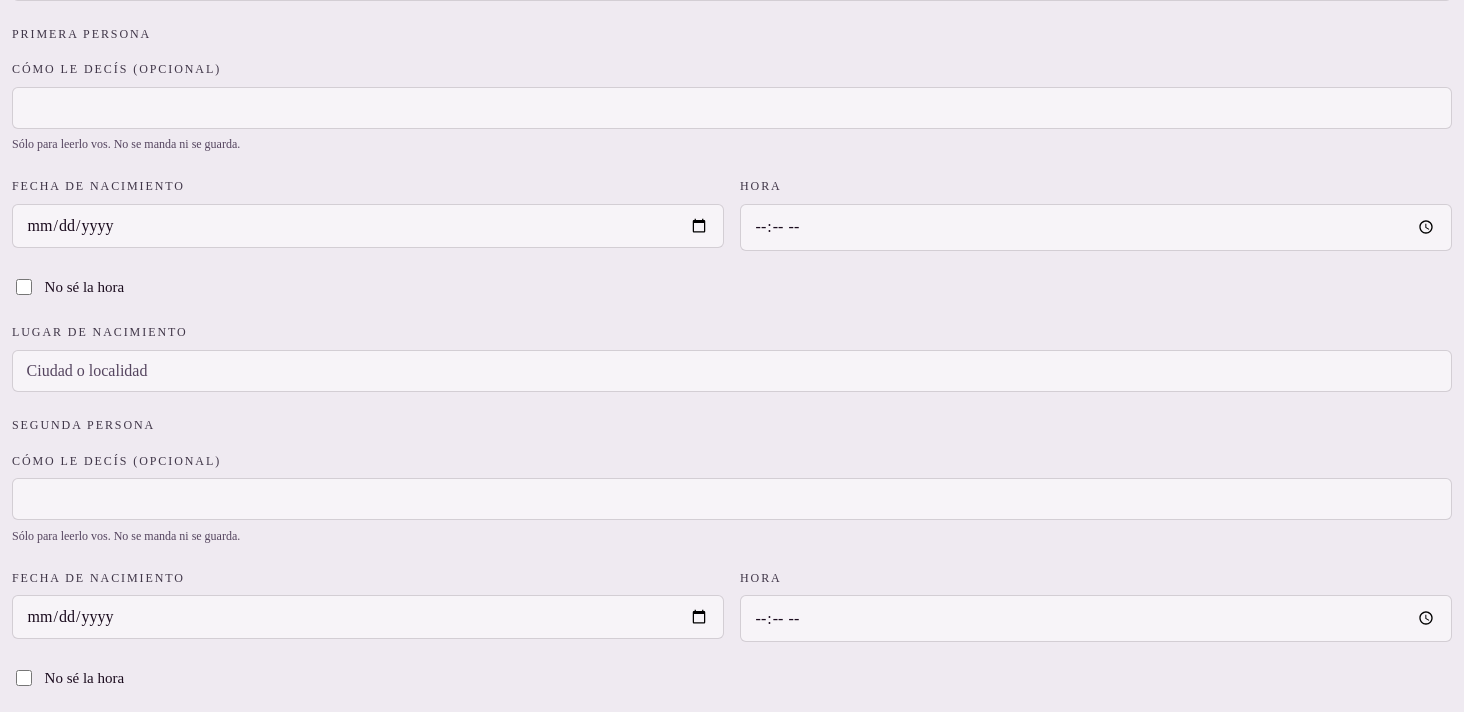
Test: VinculoForm › 429 muestra el mensaje de probar más tarde
This screenshot has width=1464, height=712.
Step 1. Type "1976-05-31" into the date field labelled "Fecha de nacimiento" below "Primera persona" → (368, 226), box left=12, top=204, right=724, bottom=248
Step 2. Type "rosario" into the field labelled "Lugar de nacimiento" → (732, 371), box left=12, top=350, right=1452, bottom=392
Wait 400 ms
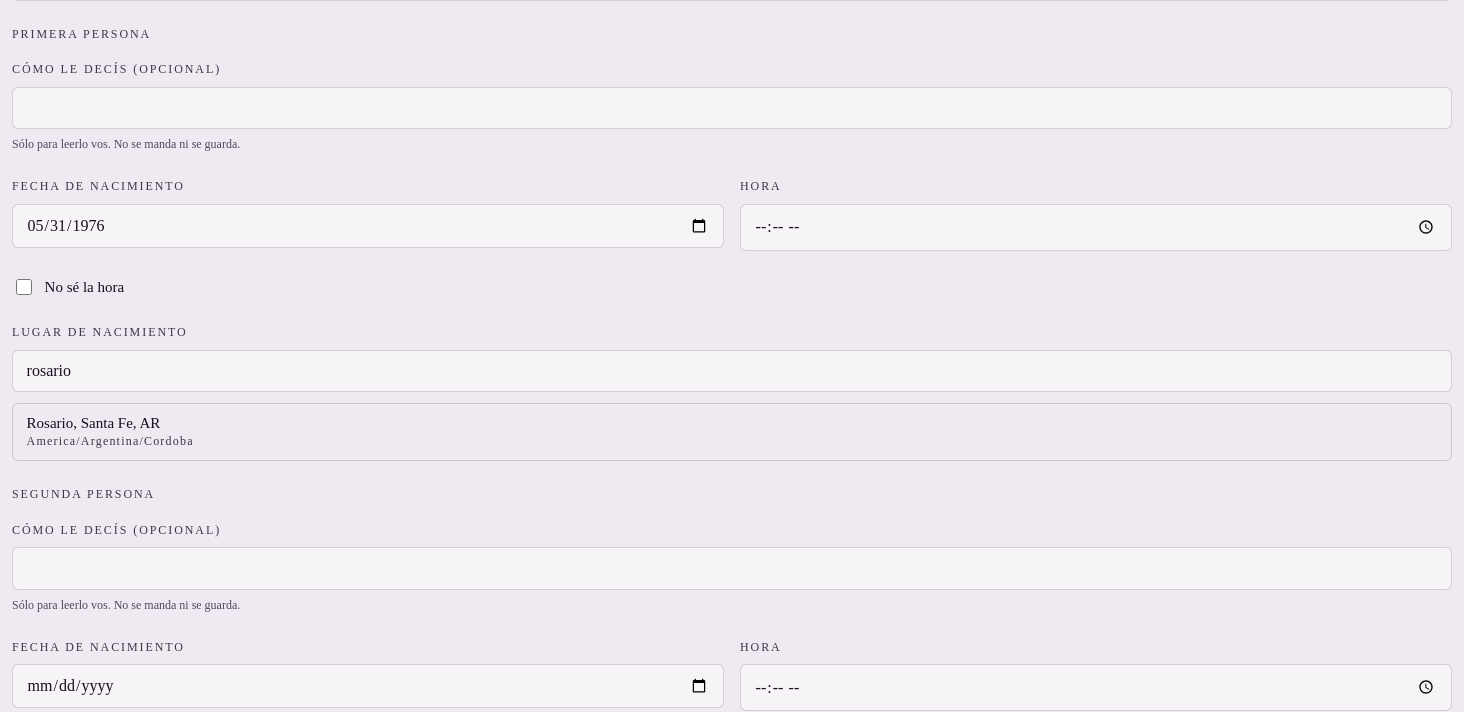
Step 3. Click the button "Rosario, Santa Fe, AR America/Argentina/Cordoba" → click(93, 423), box left=13, top=404, right=1451, bottom=460
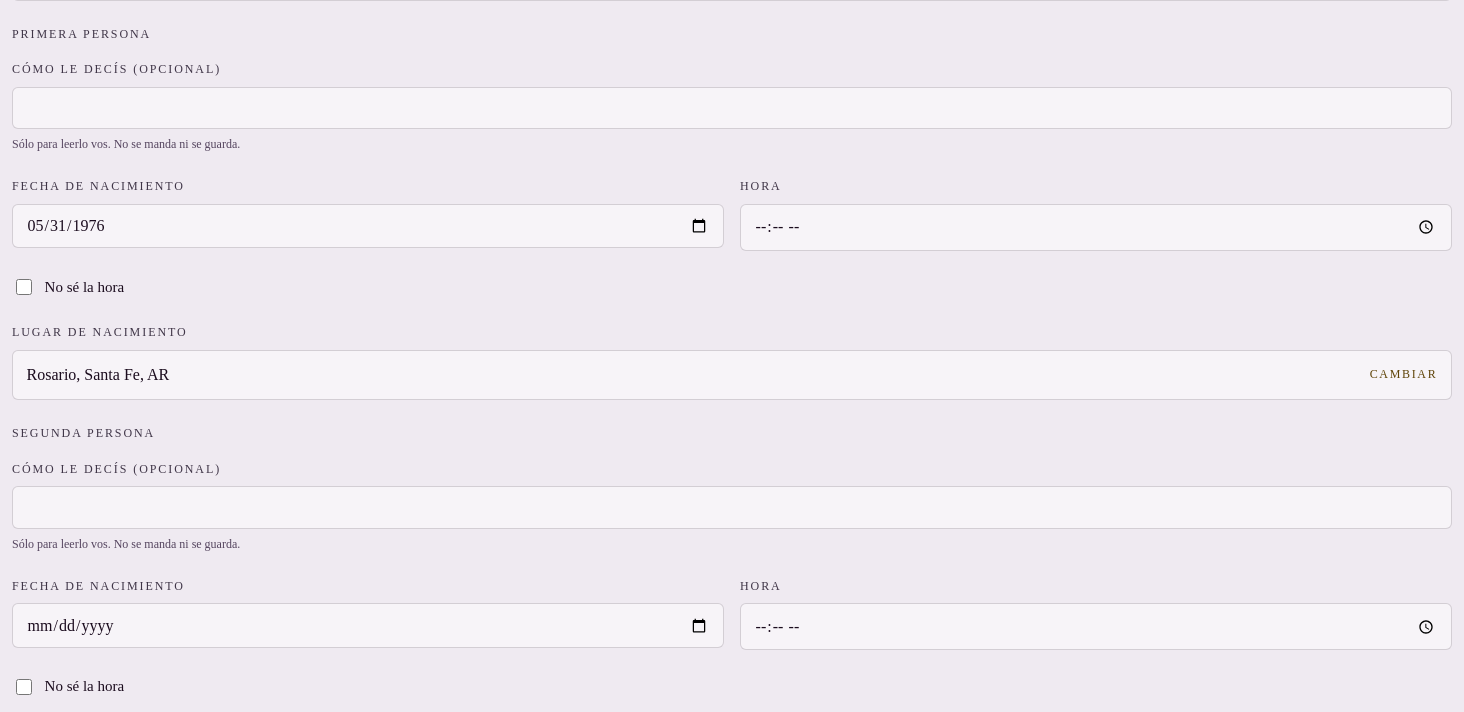
Step 4. Type "1980-11-02" into the date field labelled "Fecha de nacimiento" below "Segunda persona" → (368, 626), box left=12, top=603, right=724, bottom=648
(page scrolled)
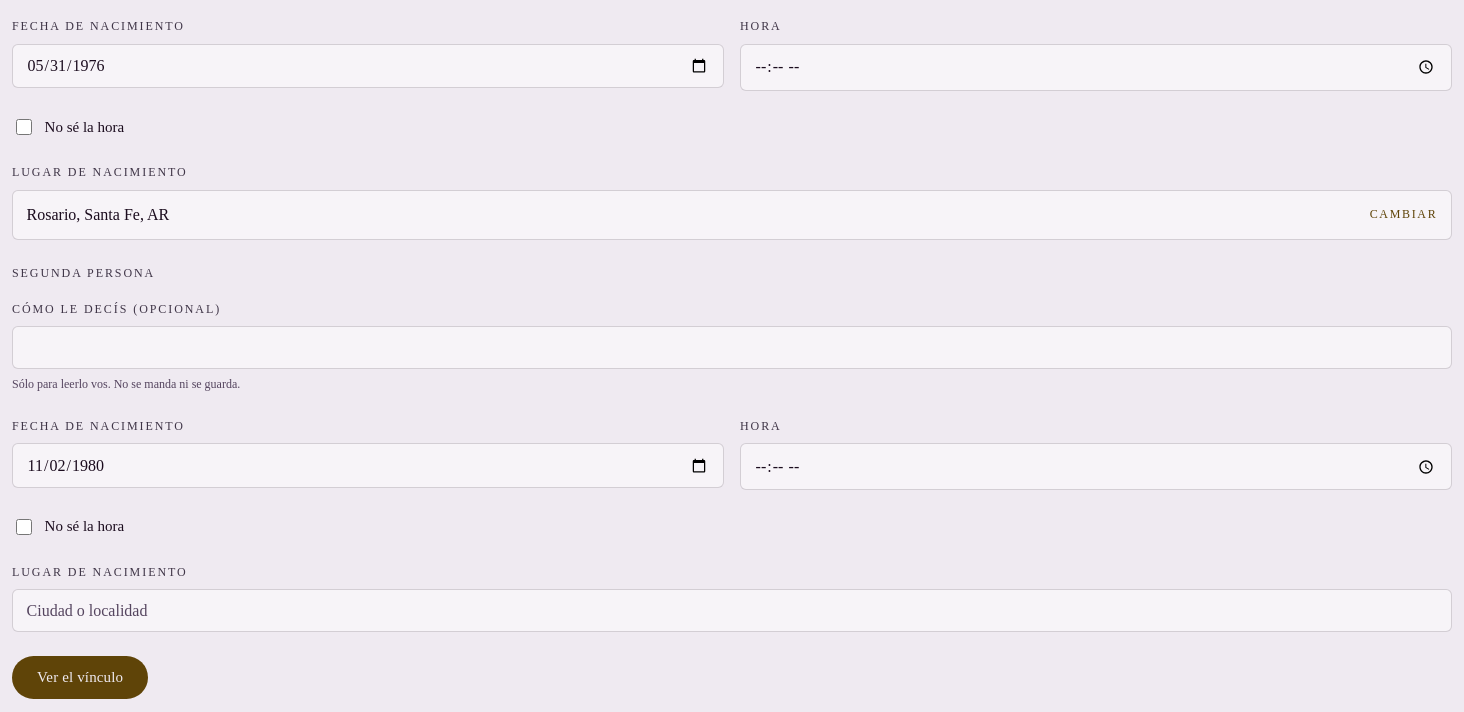
Step 5. Type "rosario" into the field labelled "Lugar de nacimiento" → (732, 611), box left=12, top=589, right=1452, bottom=632
Wait 400 ms
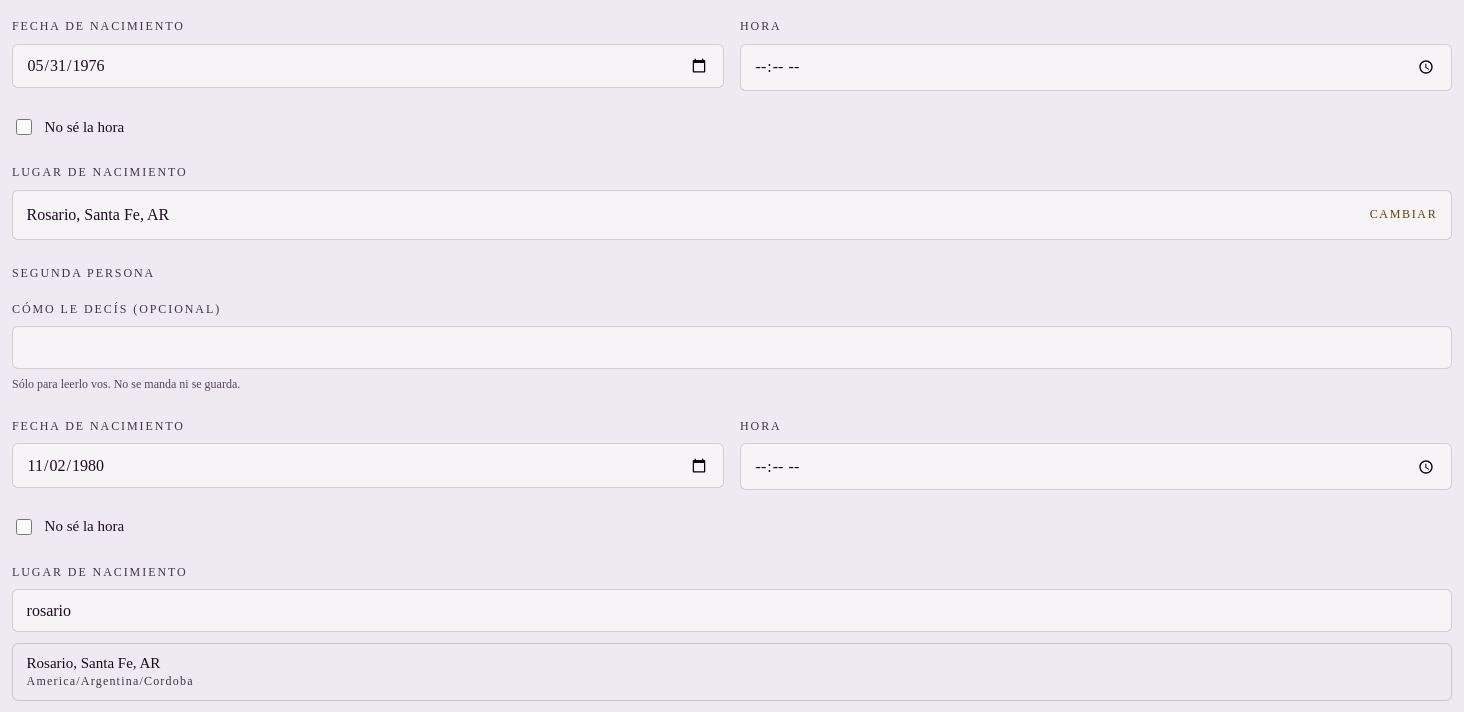
Step 6. Click the button "Rosario, Santa Fe, AR America/Argentina/Cordoba" → click(93, 663), box left=13, top=644, right=1451, bottom=700
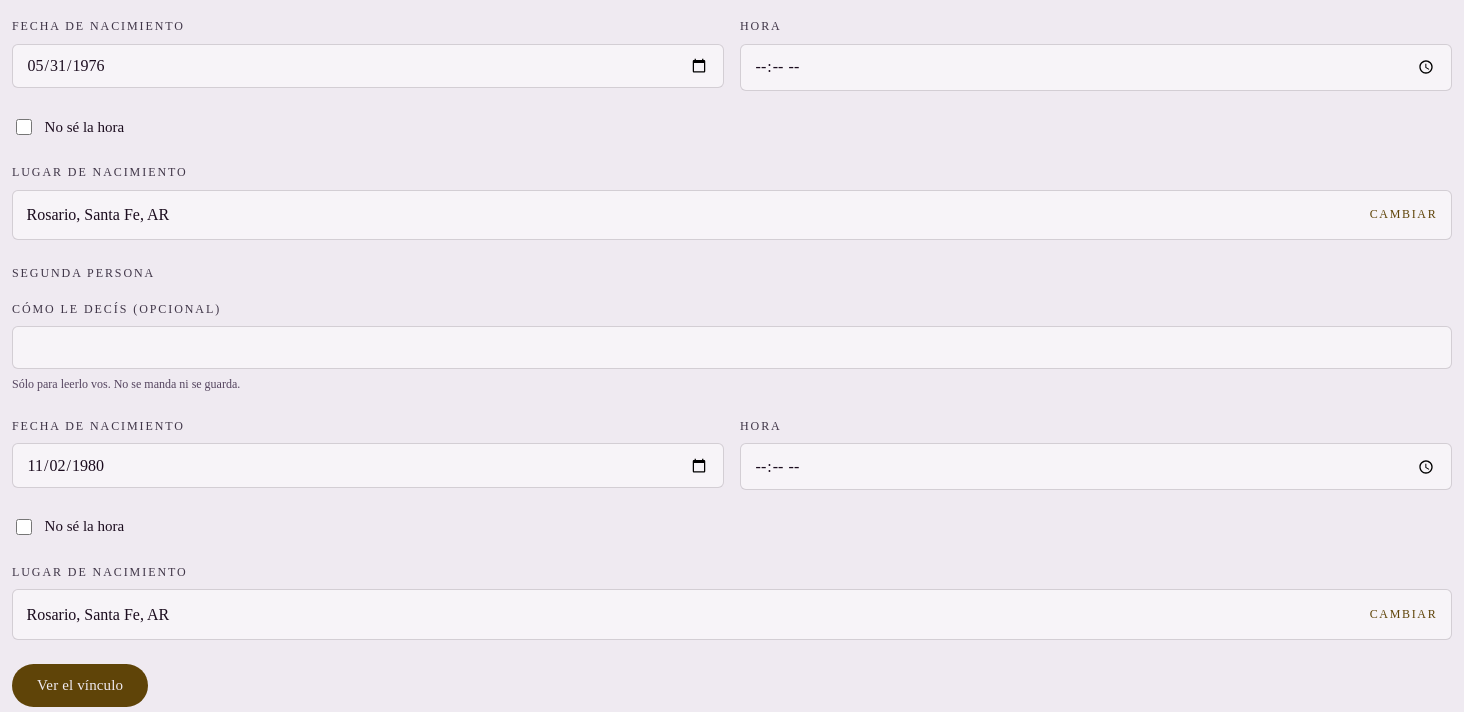
Step 7. Click the button "Ver el vínculo" → click(80, 686), box left=12, top=664, right=148, bottom=707
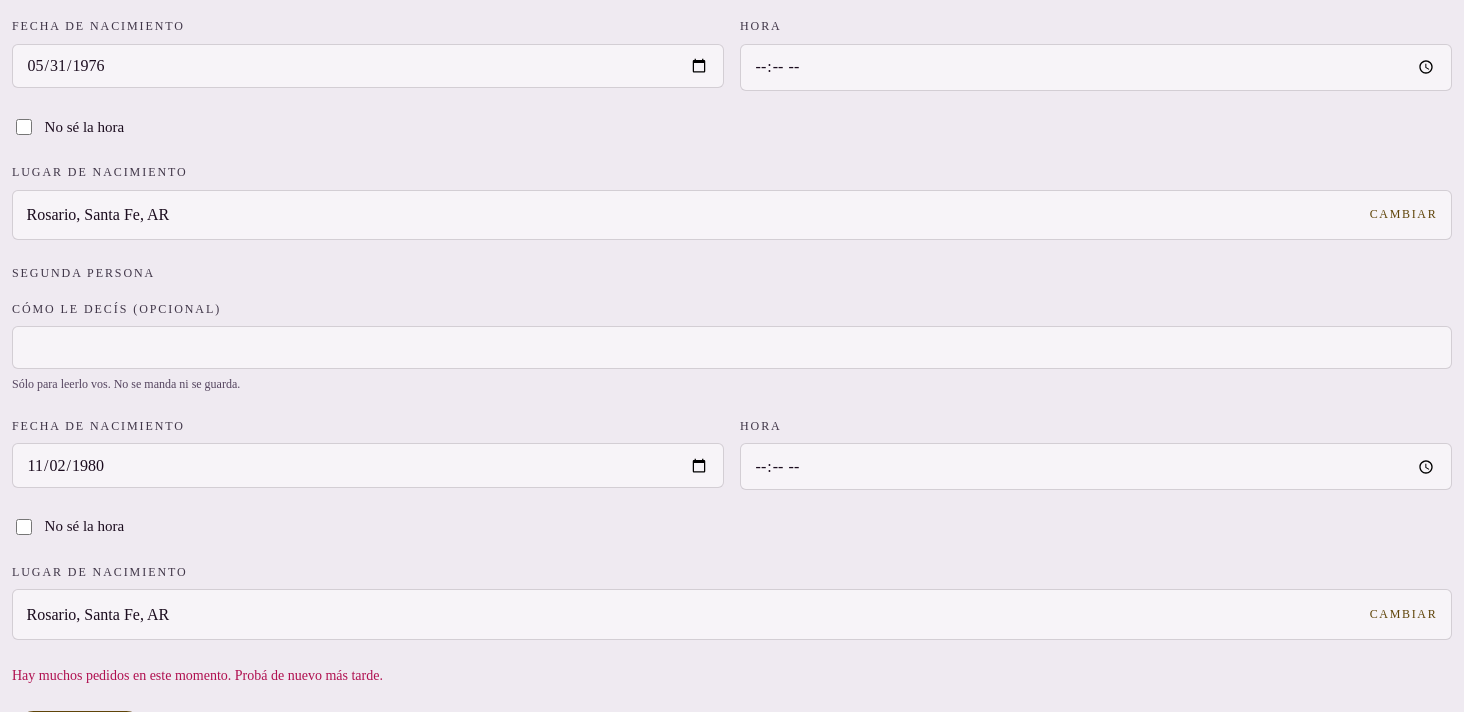
Now the message reads "Hay muchos pedidos en este momento. Probá de nuevo más tarde.", box left=12, top=668, right=383, bottom=683
